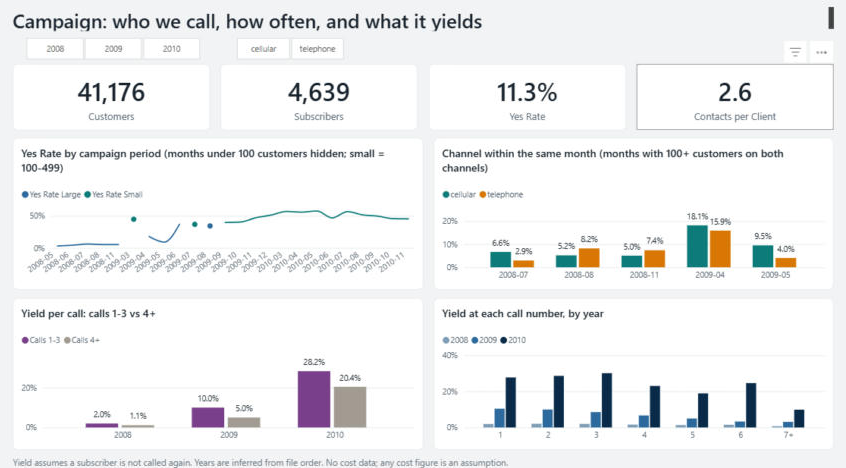

What the dashboard file says about the page in this screenshot:
{"tool":"powerbi","page":{"name":"1 Campaign","canvas":[1280,720],"ordinal":0},"visuals":[{"type":"textbox","box":[24.4,0,1231.1,47.8],"z":0},{"type":"slicer","fields":{"Values":["bank_clean.year"]},"box":[24,56,300,36],"z":1000},{"type":"slicer","fields":{"Values":["bank_clean.contact"]},"box":[340,56,200,36],"z":2000},{"type":"card","fields":{"Values":["_Measures.Customers"]},"box":[24,96,296,100],"z":3000},{"type":"card","fields":{"Values":["_Measures.Subscribers"]},"box":[336,96,296,100],"z":4000},{"type":"card","fields":{"Values":["_Measures.Yes Rate"]},"box":[648,96,296,100],"z":5000},{"type":"card","fields":{"Values":["_Measures.Contacts per Client"]},"box":[960,96,296,100],"z":6000},{"type":"lineChart","title":"Yes Rate by campaign period (months under 100 customers hidden; small = 100-499)","fields":{"Category":["bank_clean.campaign_period"],"Y":["_Measures.Yes Rate Large","_Measures.Yes Rate Small"]},"box":[24,208,616,228],"z":7000},{"type":"clusteredColumnChart","title":"Channel within the same month (months with 100+ customers on both channels)","fields":{"Category":["bank_clean.campaign_period"],"Series":["bank_clean.contact"],"Y":["_Measures.Yes Rate Both Channels"]},"box":[656,208,600,228],"z":8000},{"type":"clusteredColumnChart","title":"Yield per call: calls 1-3 vs 4+","fields":{"Category":["bank_clean.year"],"Series":["CallBand.Band"],"Y":["_Measures.Yield by Band"]},"box":[24,448,616,228],"z":9000},{"type":"clusteredColumnChart","title":"Yield at each call number, by year","fields":{"Category":["CallNumber.Label"],"Series":["bank_clean.year"],"Y":["_Measures.Yield at Number"]},"box":[656,448,600,228],"z":10000},{"type":"textbox","box":[24,684,1232,28],"z":11000}]}

Visuals, with their boxes in screenshot pixels (x1, y1, x2, y2), scaled from the page's 1280x720 canvas onto the 846x468 screenshot:
textbox: [16,0,830,31]
slicer - bank_clean.year: [16,36,214,60]
slicer - bank_clean.contact: [225,36,357,60]
card - _Measures.Customers: [16,62,212,127]
card - _Measures.Subscribers: [222,62,418,127]
card - _Measures.Yes Rate: [428,62,624,127]
card - _Measures.Contacts per Client: [634,62,830,127]
"Yes Rate by campaign period (months under 100 customers hidden; small = 100-499)" lineChart: [16,135,423,283]
"Channel within the same month (months with 100+ customers on both channels)" clusteredColumnChart: [434,135,830,283]
"Yield per call: calls 1-3 vs 4+" clusteredColumnChart: [16,291,423,439]
"Yield at each call number, by year" clusteredColumnChart: [434,291,830,439]
textbox: [16,445,830,463]
